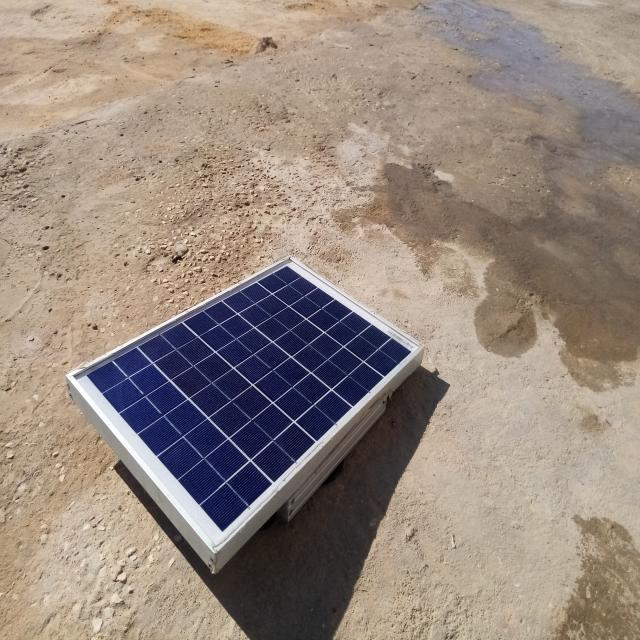no faulty: (72, 254, 422, 554)
